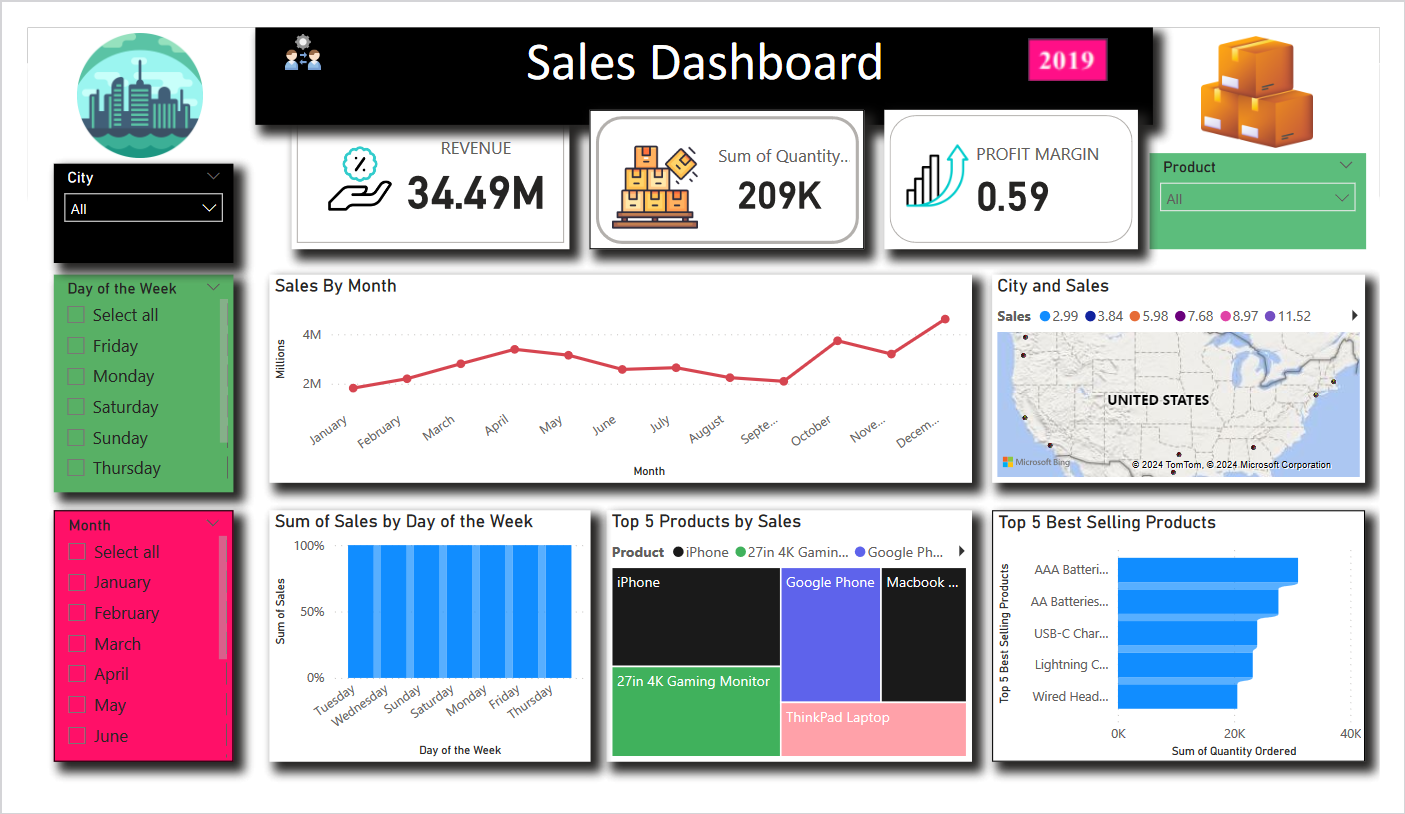

The page's visual inventory and layout, read from the dashboard file:
{"tool":"powerbi","page":{"name":"Page 1","canvas":[1280,720],"ordinal":0},"visuals":[{"type":"treemap","title":"Top 5 Products by Sales","fields":{"Group":["Sales Data.Product"],"Values":["CountNonNull(Sales Data.Sales)"]},"box":[548,457.3,345.8,238.1],"z":0},{"type":"barChart","title":"Top 5 Best Selling Products","fields":{"Category":["Sales Data.Product"],"Y":["Sum(Sales Data.Quantity Ordered)"]},"box":[912.8,457.3,353.4,238.1],"z":1000},{"type":"hundredPercentStackedColumnChart","fields":{"Y":["Sum(Sales Data.Sales)"],"Category":["Sales Data.Day of the Week"]},"box":[228.7,457.3,304.3,238.1],"z":2000},{"type":"lineChart","title":"Sales By Month","fields":{"Y":["Sum(Sales Data.Sales)"],"Category":["Sales Data.Order Date.1.Variation.Date Hierarchy.Month"]},"box":[228.7,234.3,665.2,196.5],"z":3000},{"type":"map","fields":{"Category":["Sales Data.City"],"Series":["Sales Data.Sales"]},"box":[912.8,234.3,353.4,196.5],"z":4000},{"type":"slicer","fields":{"Values":["Sales Data.Order Date.1.Variation.Date Hierarchy.Month"]},"box":[24.6,457.3,170.1,238.1],"z":5000},{"type":"slicer","fields":{"Values":["Sales Data.Day of the Week"]},"box":[24.6,234.3,170.1,206],"z":6000},{"type":"cardVisual","title":"REVENUE","fields":{"Data":["Day of the Week.REVENUE"]},"box":[249.5,77.9,263.8,131.9],"z":7000},{"type":"textbox","title":"Sales Dashboard","box":[216.2,0,848.7,92.2],"z":8000},{"type":"slicer","fields":{"Values":["Sales Data.City"]},"box":[24.6,128.5,170.1,94.5],"z":9000},{"type":"slicer","fields":{"Values":["Sales Data.Product"]},"box":[1061.7,119.2,205,90.6],"z":10000},{"type":"image","box":[23.8,0,165.3,128.7],"z":11000},{"type":"image","box":[1106.2,0,116,122.4],"z":12000},{"type":"image","box":[216.2,0,89,46.1],"z":13000},{"type":"image","box":[937.7,4.8,93.8,50.9],"z":14000},{"type":"cardVisual","fields":{"Data":["Day of the Week.PROFIT MARGIN"]},"box":[810.6,77.9,240,131.9],"z":15000},{"type":"cardVisual","fields":{"Data":["Sum(Sales Data.Quantity Ordered)"]},"box":[532.5,77.9,259.1,131.9],"z":16000}]}

Visuals, with their boxes in screenshot pixels (x1, y1, x2, y2), scaled from the page's 1280x720 canvas onto the 1405x814 screenshot:
"Top 5 Products by Sales" treemap: <region>602, 517, 981, 786</region>
"Top 5 Best Selling Products" barChart: <region>1002, 517, 1390, 786</region>
hundredPercentStackedColumnChart - Sum(Sales Data.Sales) x Sales Data.Day of the Week: <region>251, 517, 585, 786</region>
"Sales By Month" lineChart: <region>251, 265, 981, 487</region>
map - Sales Data.City x Sales Data.Sales: <region>1002, 265, 1390, 487</region>
slicer - Sales Data.Order Date.1.Variation.Date Hierarchy.Month: <region>27, 517, 214, 786</region>
slicer - Sales Data.Day of the Week: <region>27, 265, 214, 498</region>
"REVENUE" cardVisual: <region>274, 88, 563, 237</region>
"Sales Dashboard" textbox: <region>237, 0, 1169, 104</region>
slicer - Sales Data.City: <region>27, 145, 214, 252</region>
slicer - Sales Data.Product: <region>1165, 135, 1390, 237</region>
image: <region>26, 0, 208, 146</region>
image: <region>1214, 0, 1342, 138</region>
image: <region>237, 0, 335, 52</region>
image: <region>1029, 5, 1132, 63</region>
cardVisual - Day of the Week.PROFIT MARGIN: <region>890, 88, 1153, 237</region>
cardVisual - Sum(Sales Data.Quantity Ordered): <region>585, 88, 869, 237</region>
